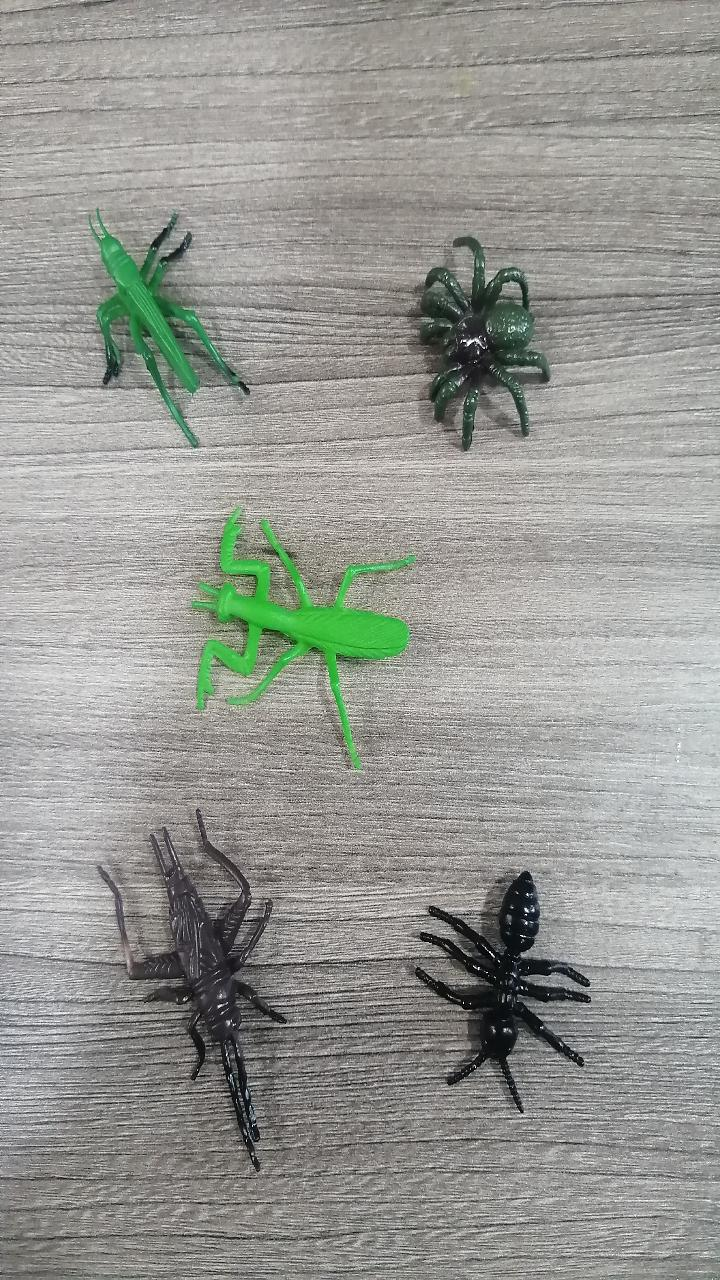intruso: (69, 783, 315, 1189), (148, 489, 449, 803), (380, 832, 626, 1154), (44, 168, 263, 459), (378, 208, 574, 479)
